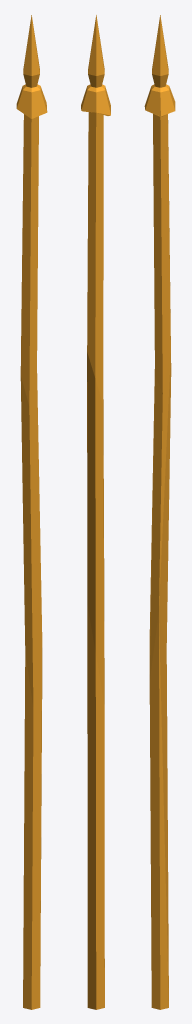
File: SM_Flag_Stand_Wood_Pole_B_Fantasy.fbx
The picture shows the model from 3 angles, left to right: view 1: azimuth 90°, elevation 25°; view 2: azimuth 150°, elevation 25°; view 3: azimuth 270°, elevation 25°; orthographic projection.
Visible parts, largest first — view 1: flag-stand-wood-pole-b-fantasy; view 2: flag-stand-wood-pole-b-fantasy; view 3: flag-stand-wood-pole-b-fantasy.
Boxes of the visible parts, x1,y1,x2,y2 form: flag-stand-wood-pole-b-fantasy: (16, 15, 47, 1009); flag-stand-wood-pole-b-fantasy: (81, 15, 110, 1009); flag-stand-wood-pole-b-fantasy: (144, 15, 175, 1009).
Size of the model in its own units: 0.1219 by 3.85 by 0.1075.
